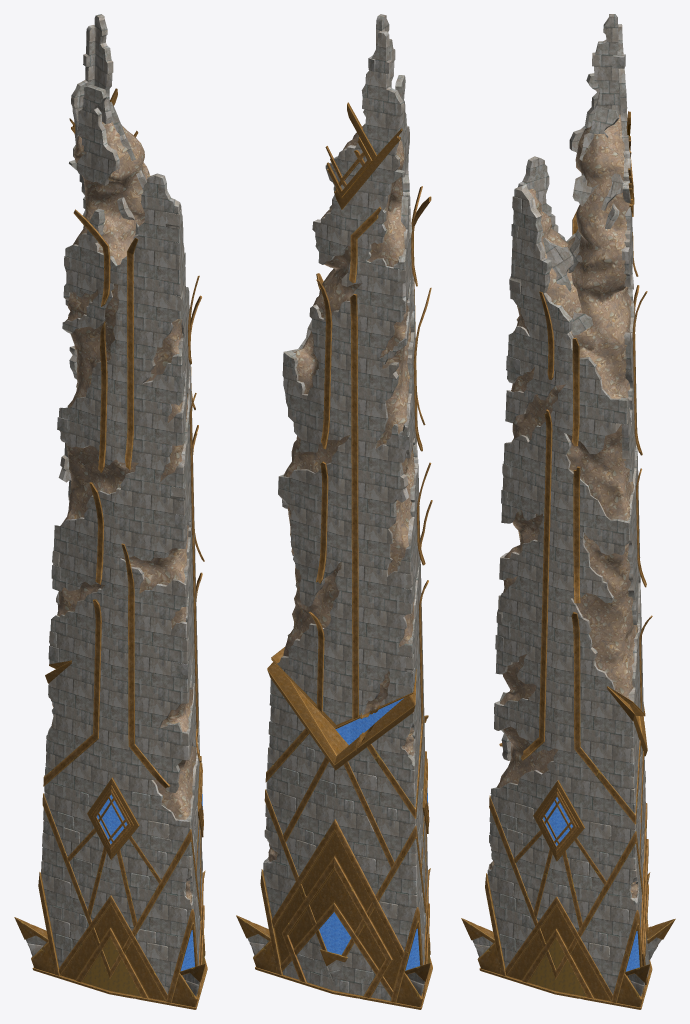
3 views of the same model, side by side, from view 1: azimuth 30°, elevation 25°; view 2: azimuth 150°, elevation 25°; view 3: azimuth 270°, elevation 25° (orthographic). The views are drawn at different scales.
Parts seen in each view (by area): view 1: SM_Dragons_Lair_Tower_01_Dmg_LOD0; view 2: SM_Dragons_Lair_Tower_01_Dmg_LOD0; view 3: SM_Dragons_Lair_Tower_01_Dmg_LOD0.
Part boxes in pixels (x1,y1,x2,y2): SM_Dragons_Lair_Tower_01_Dmg_LOD0: (14, 14, 207, 1009); SM_Dragons_Lair_Tower_01_Dmg_LOD0: (236, 14, 432, 1009); SM_Dragons_Lair_Tower_01_Dmg_LOD0: (461, 14, 675, 1009).
Bounding box in the file's own units: 79.37 × 378 × 77.96.
6 materials, 6 textured.
